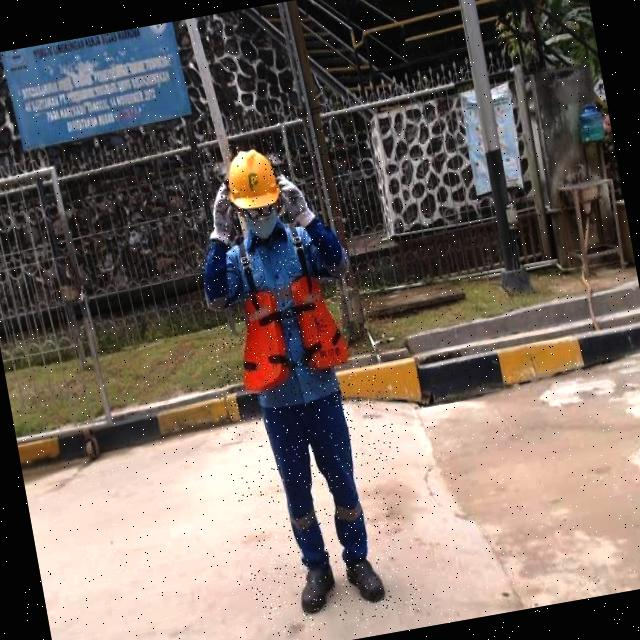boots: (339, 548, 390, 609), (292, 558, 342, 616)
helmet: (220, 142, 283, 212)
vest: (228, 277, 354, 391)
